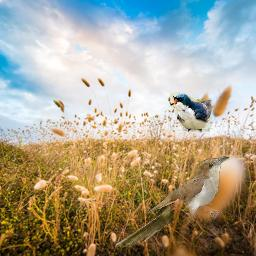Cuckoo: (115, 156, 230, 248)
Swallow: (169, 92, 212, 132)
